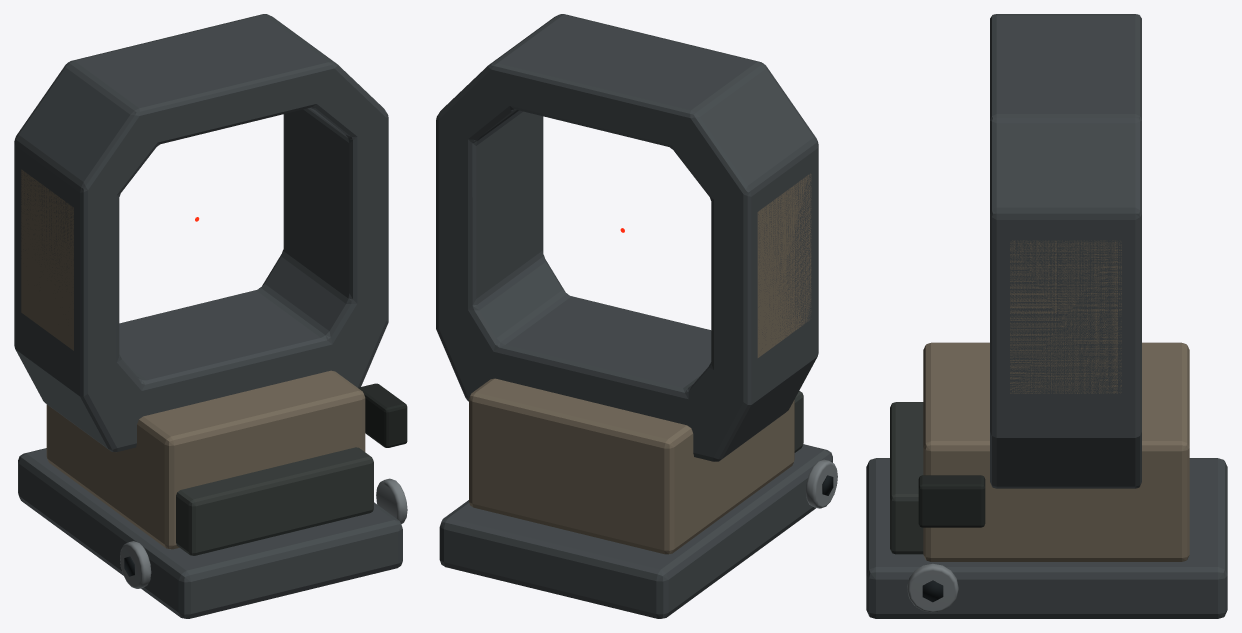
The model's file is reflex.glb.
3 renders of one model, left to right at view 1: azimuth 30°, elevation 25°; view 2: azimuth 150°, elevation 25°; view 3: azimuth 270°, elevation 25°, orthographic. The views are drawn at different scales.
Visible parts, largest first — view 1: reflex_metal, reflex_bronze, reflex_Battery_cover, reflex_Recessed_switch, reflex_steel; view 2: reflex_metal, reflex_bronze, reflex_steel, reflex_Battery_cover; view 3: reflex_metal, reflex_bronze, reflex_Battery_cover, reflex_Recessed_switch, reflex_steel.
Boxes of the visible parts, x1,y1,x2,y2 form: reflex_metal: (14,14,402,618); reflex_bronze: (21,169,365,549); reflex_Battery_cover: (176,447,373,555); reflex_Recessed_switch: (358,383,407,447); reflex_steel: (120,478,407,588); reflex_metal: (436,14,832,618); reflex_bronze: (469,173,811,554); reflex_steel: (805,459,837,508); reflex_Battery_cover: (794,391,803,452); reflex_metal: (866,14,1227,618); reflex_bronze: (923,240,1189,561); reflex_Battery_cover: (890,402,923,554); reflex_Recessed_switch: (918,475,985,527); reflex_steel: (907,563,958,612).
Bounding box in the file's own units: 0.04 × 0.058 × 0.038.
